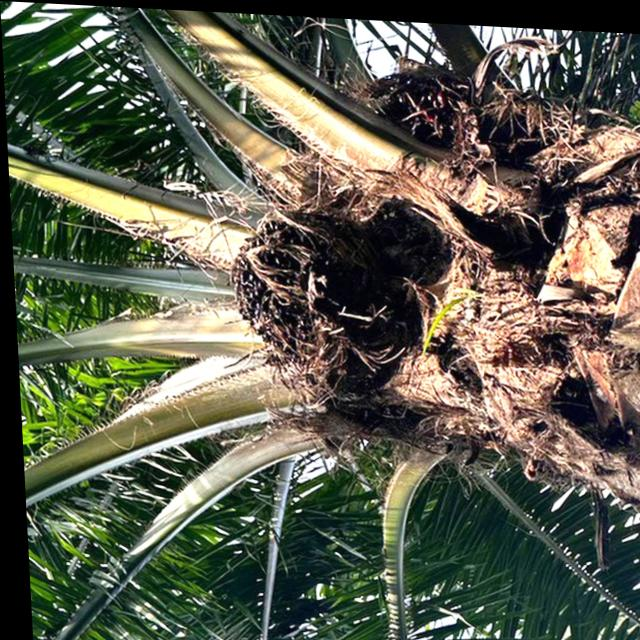unripe: (217, 194, 442, 418), (355, 49, 539, 205)
